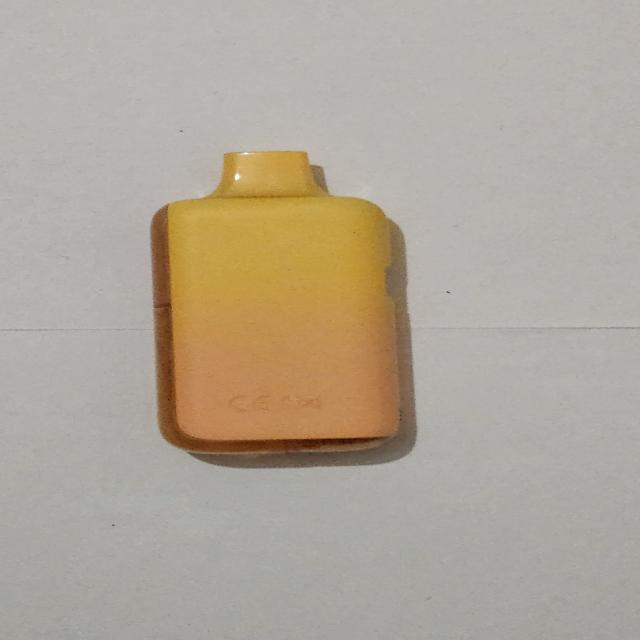Hazard: (148, 150, 408, 454)
